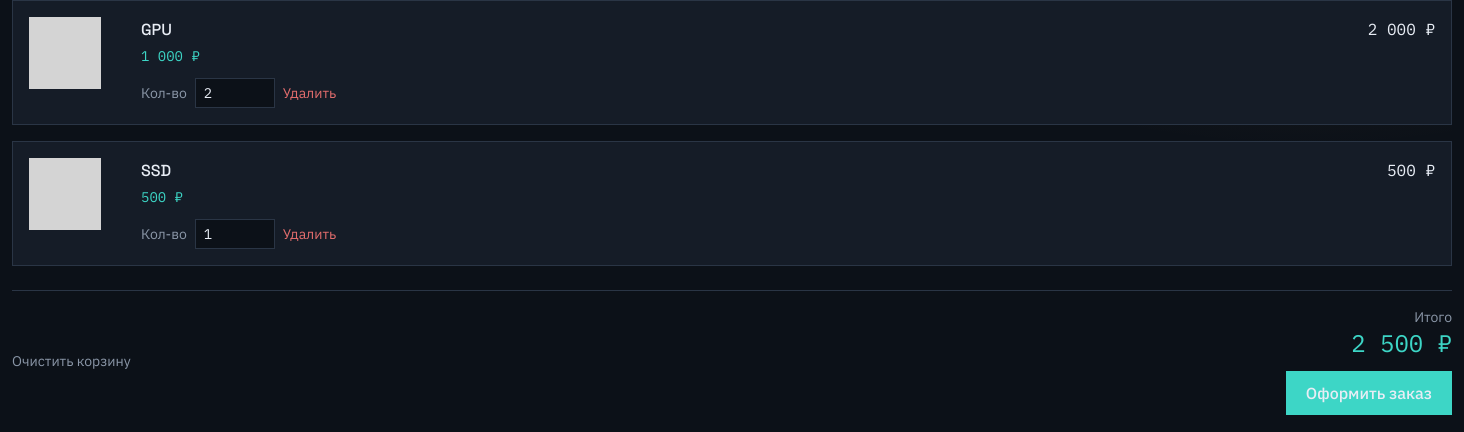
Test: CartView › renders items, recalculates total on qty change, and removes lines
Expected: the number of list items with test id "cart-item" is 2, [12,0,1452,125]; [12,141,1452,266]
Expected: the text with test id "cart-total" reads "2 500 ₽", [1351,327,1452,359]
Replace the text in the number field with test id "cart-item-qty" below "1 000 ₽" with "3" at (235, 93), box [195,78,275,108]
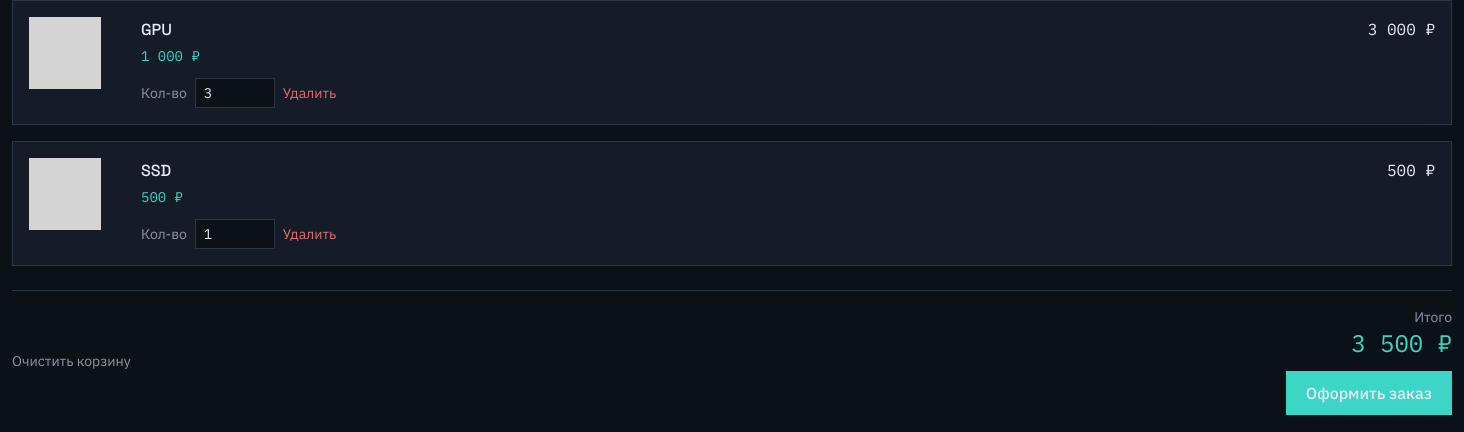
Expected: the text with test id "cart-total" reads "3 500 ₽", [1351,327,1452,359]
Click the button with test id "cart-item-remove" below "1 000 ₽" at (310, 93), box [283,83,336,103]
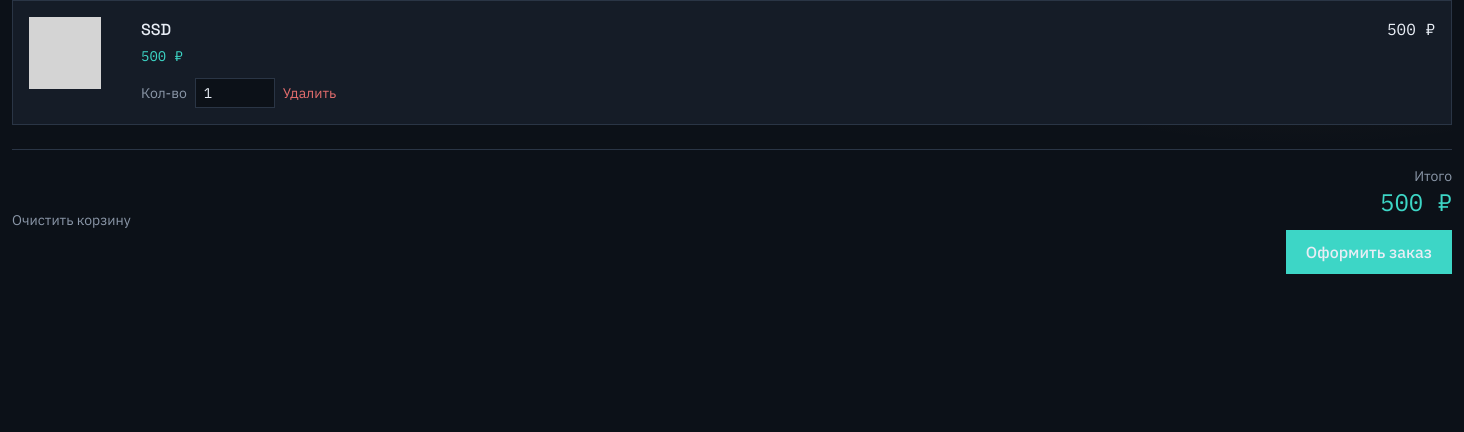
Expected: the number of list items with test id "cart-item" is 1, [12,0,1452,125]
